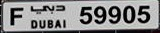character: (9, 6, 24, 26), (92, 5, 107, 25), (78, 5, 92, 25), (107, 4, 121, 24), (122, 4, 136, 24), (137, 4, 151, 24), (30, 18, 38, 29), (38, 19, 46, 28), (54, 19, 61, 28), (47, 19, 53, 28), (62, 19, 67, 28)
